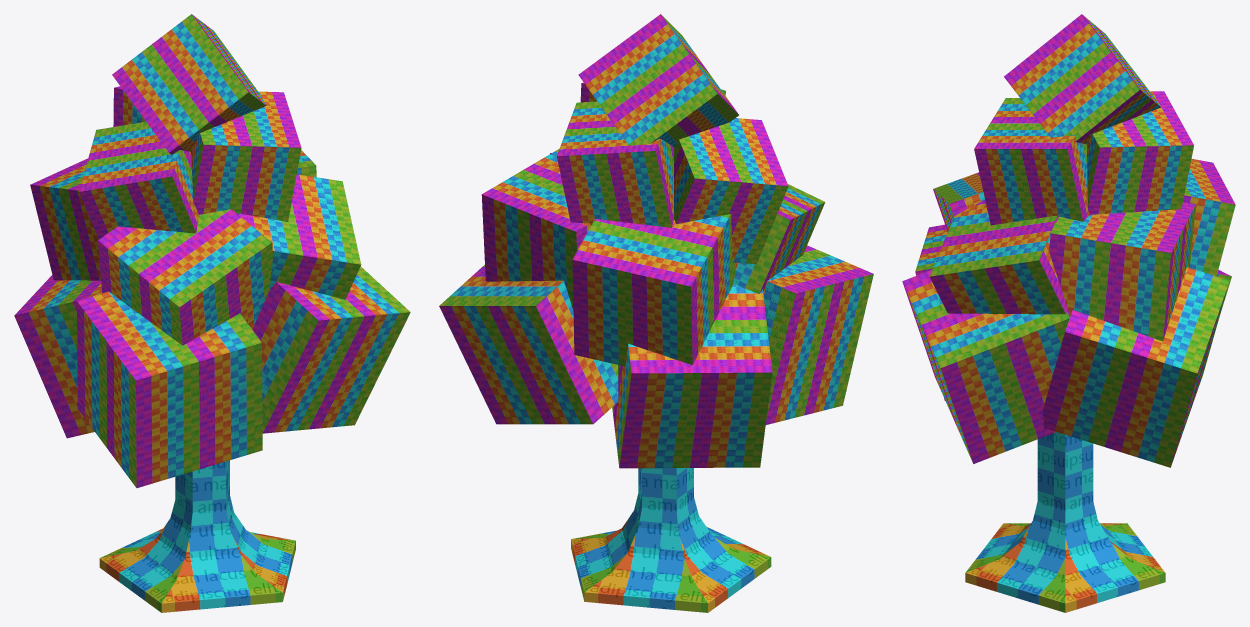
File: SM_Tree_1.fbx
The picture shows the model from 3 angles, left to right: view 1: azimuth 30°, elevation 25°; view 2: azimuth 150°, elevation 25°; view 3: azimuth 270°, elevation 25°; orthographic projection. The views are drawn at different scales.
Visible parts, largest first — view 1: SM_Tree_1; view 2: SM_Tree_1; view 3: SM_Tree_1.
Boxes of the visible parts, bbox=[...] form: SM_Tree_1: bbox=[14, 14, 410, 612]; SM_Tree_1: bbox=[439, 14, 873, 612]; SM_Tree_1: bbox=[902, 14, 1235, 612].
Bounding box in the file's own units: 33.91 × 59.22 × 32.42.
2 materials, 2 textured.
